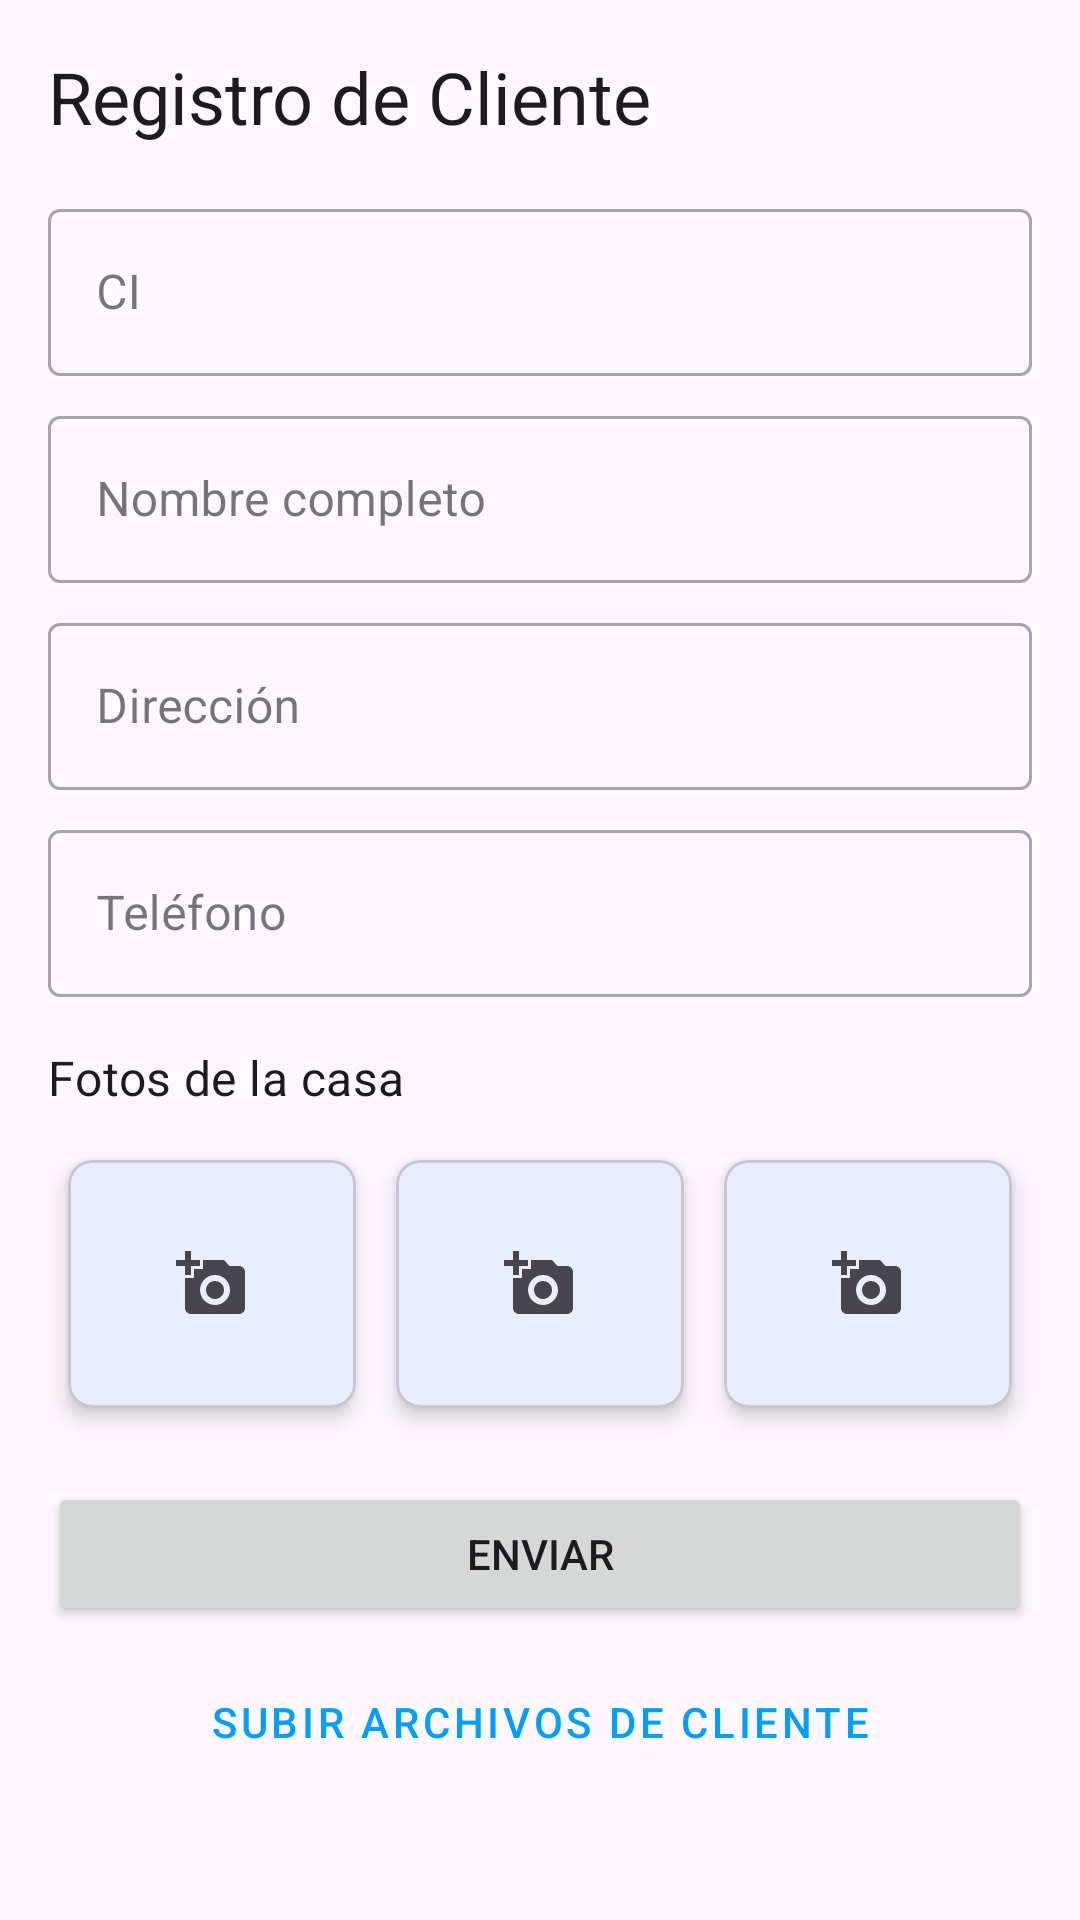

Named icons in this screenshot (1080px×1920px) and their centers, (x=x, y=y):
add photo: (x=212, y=1284), (x=540, y=1284), (x=868, y=1284)
